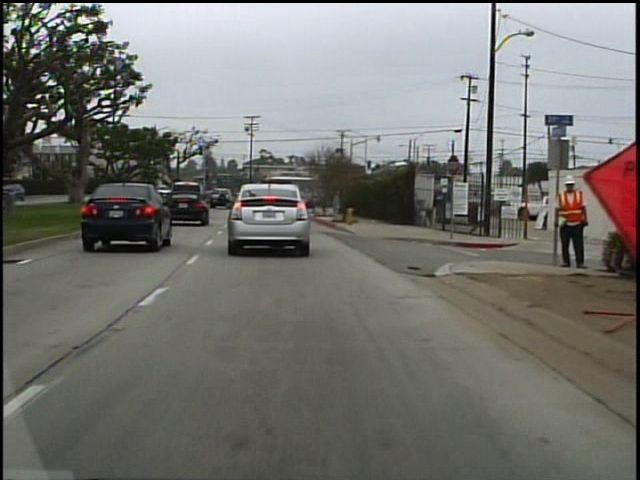person: (544, 171, 586, 272)
